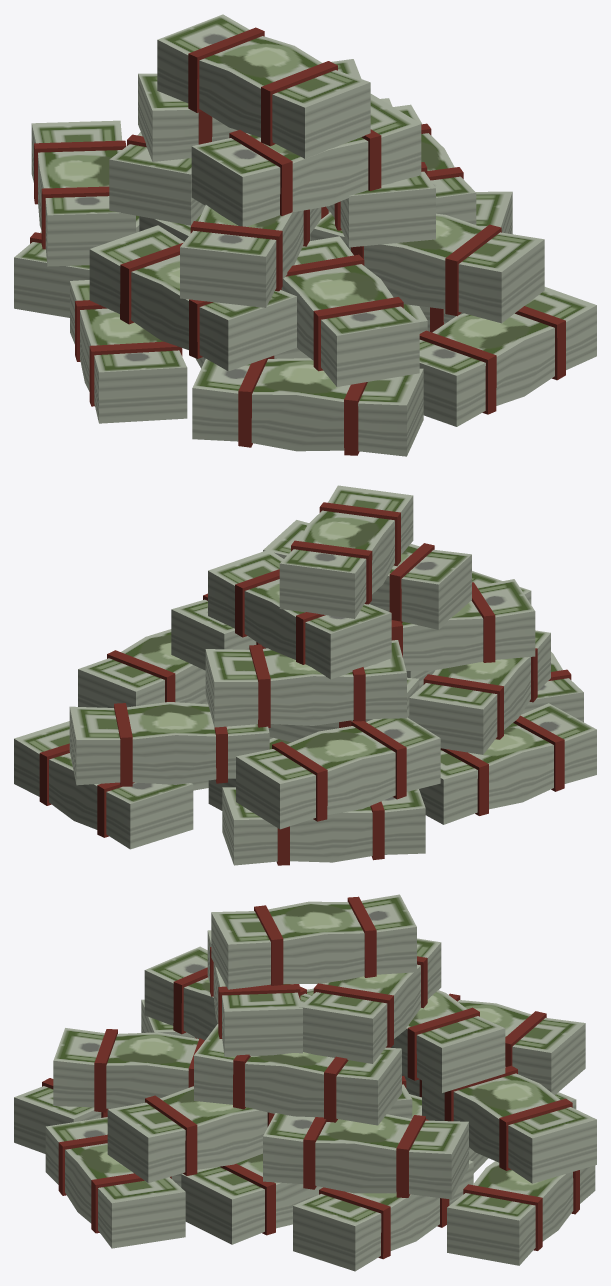
Rendered from SM_Prop_Money_Stack_03.fbx.
The picture shows the model from 3 angles, top to bottom: view 1: azimuth 30°, elevation 25°; view 2: azimuth 150°, elevation 25°; view 3: azimuth 270°, elevation 25°; orthographic projection. The views are drawn at different scales.
Visible parts, largest first — view 1: SM_Prop_Money_Stack_03; view 2: SM_Prop_Money_Stack_03; view 3: SM_Prop_Money_Stack_03.
Boxes of the visible parts, left/top/right/bottom form: SM_Prop_Money_Stack_03: left=14, top=14, right=596, bottom=456; SM_Prop_Money_Stack_03: left=14, top=485, right=596, bottom=865; SM_Prop_Money_Stack_03: left=14, top=894, right=596, bottom=1271.
Size of the model in its own units: 71.65 by 37.33 by 82.49.
